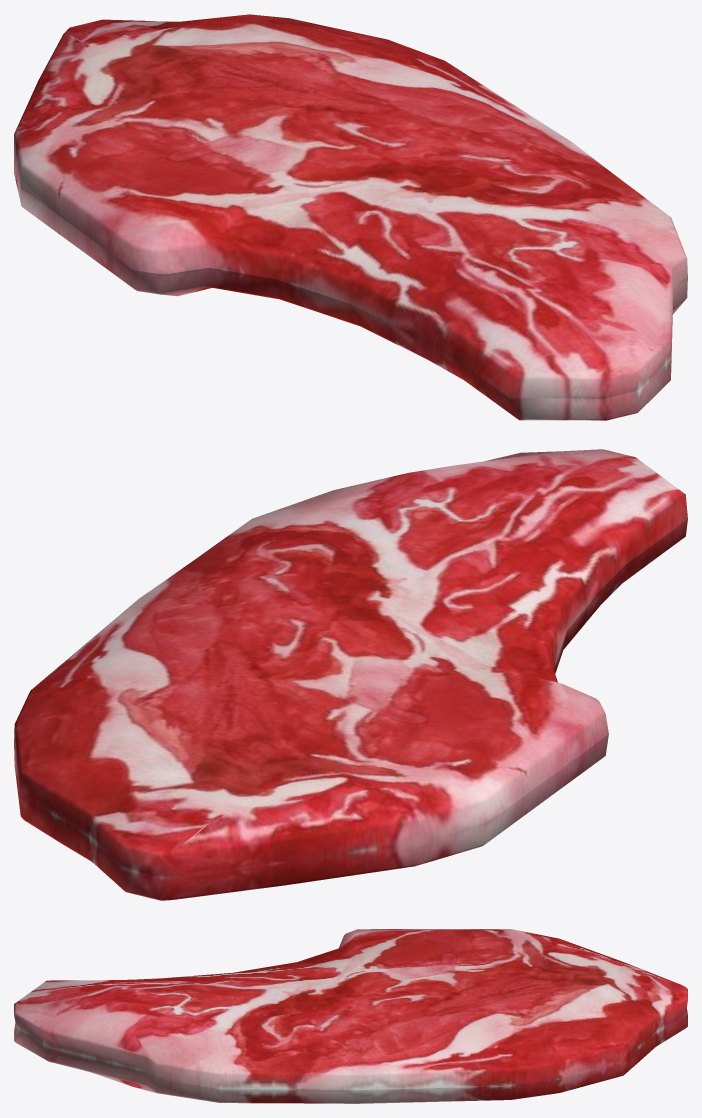
The picture shows the model from 3 angles, top to bottom: view 1: azimuth 30°, elevation 25°; view 2: azimuth 150°, elevation 25°; view 3: azimuth 270°, elevation 25°; orthographic projection. The views are drawn at different scales.
Parts seen in each view (by area): view 1: Plane001; view 2: Plane001; view 3: Plane001.
Part boxes in pixels (x1=…): Plane001: x1=14, y1=14, x2=687, y2=420; Plane001: x1=14, y1=449, x2=687, y2=900; Plane001: x1=14, y1=929, x2=687, y2=1103.
Bounding box in the file's own units: 9.23 × 1.89 × 17.88.
Materials: 1 (1 with a texture image).
